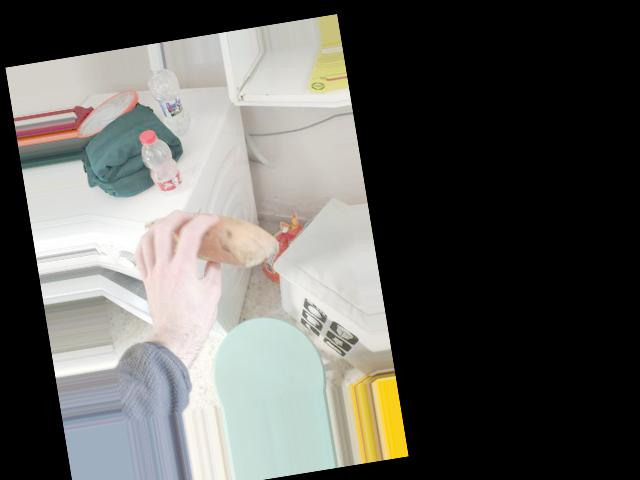sweet_potato: (136, 198, 276, 278)
